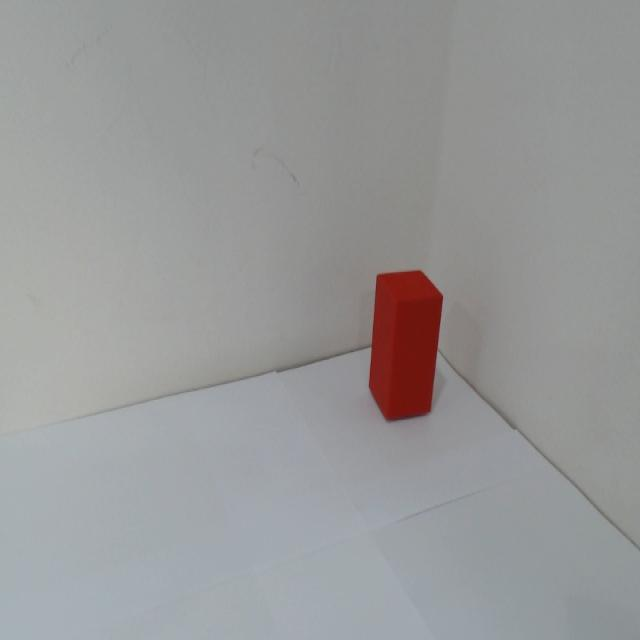cube: (365, 251, 447, 436)
